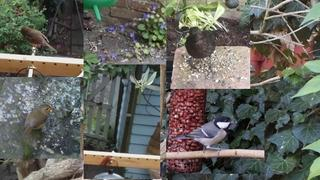blackbird: (184, 27, 224, 76)
great tit: (170, 116, 238, 156)
robin: (22, 104, 54, 138), (19, 27, 57, 52)
